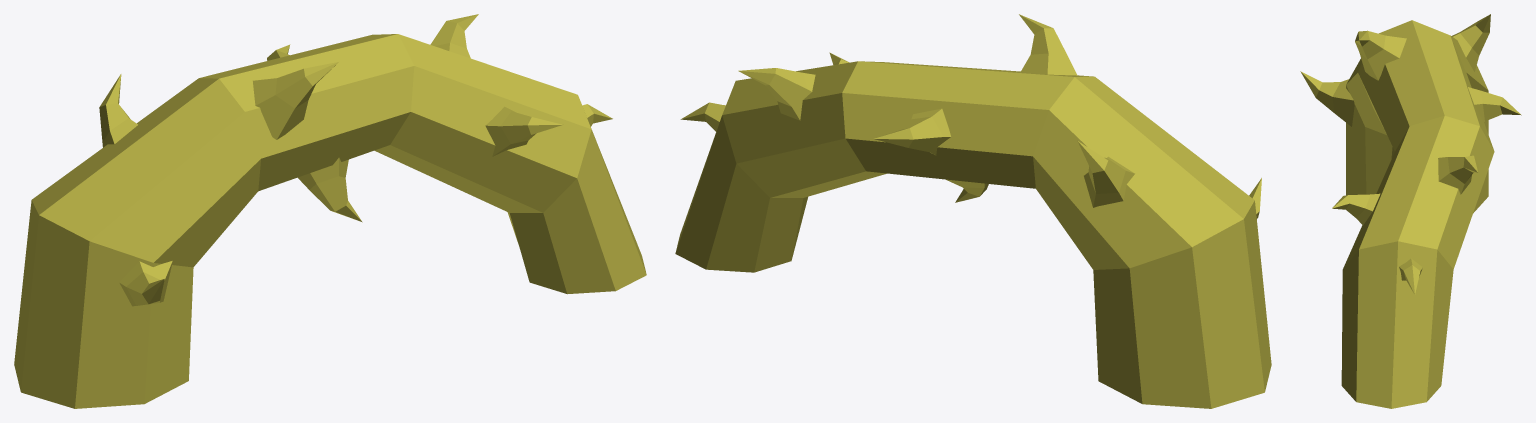
File: Spikes_01.FBX
3 renders of one model, left to right at view 1: azimuth 30°, elevation 25°; view 2: azimuth 150°, elevation 25°; view 3: azimuth 270°, elevation 25°, orthographic. The views are drawn at different scales.
Parts seen in each view (by area): view 1: Spikes_01; view 2: Spikes_01; view 3: Spikes_01.
Part boxes in pixels (x1,y1,x2,y2): Spikes_01: (14, 14, 646, 408); Spikes_01: (675, 14, 1271, 408); Spikes_01: (1300, 14, 1521, 408).
Size of the model in its own units: 51.43 by 23.31 by 19.62.
